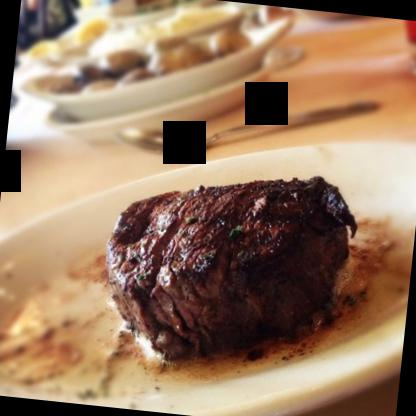beef: (99, 154, 357, 378)
